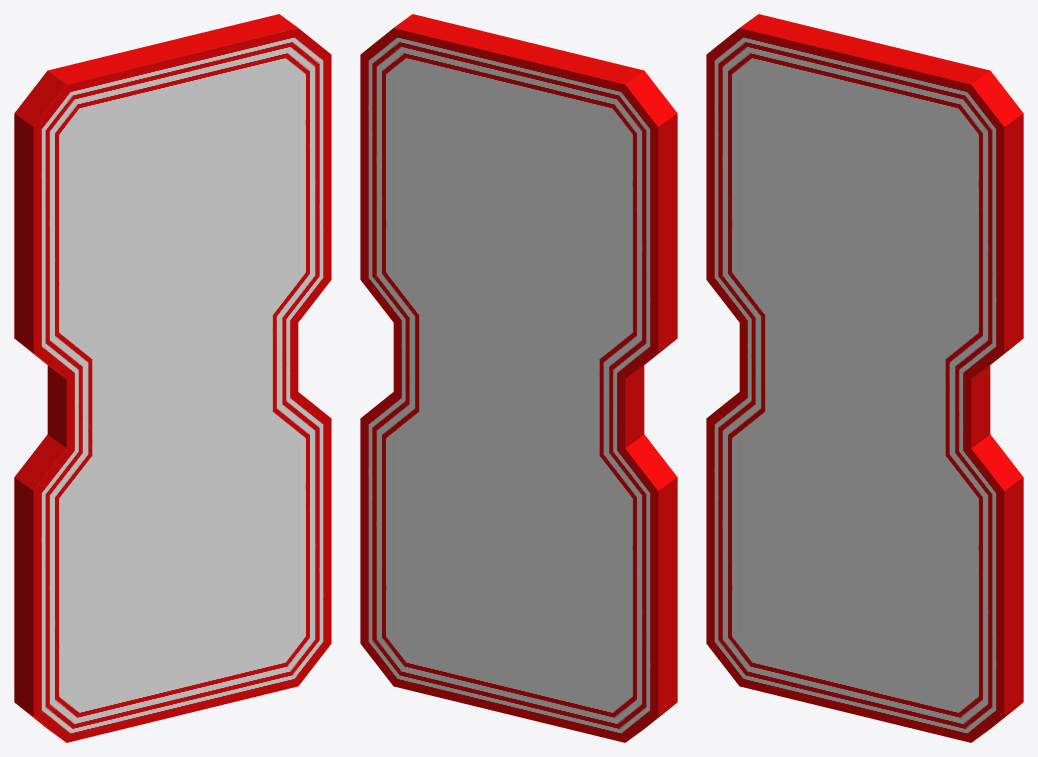
Rendered from Window_Breakable.fbx.
The picture shows the model from 3 angles, left to right: view 1: azimuth 30°, elevation 25°; view 2: azimuth 150°, elevation 25°; view 3: azimuth 330°, elevation 25°; orthographic projection.
Parts seen in each view (by area): view 1: Window_Breakable; view 2: Window_Breakable; view 3: Window_Breakable.
Part boxes in pixels (x1,y1,x2,y2): Window_Breakable: (14, 14, 331, 742); Window_Breakable: (360, 14, 677, 742); Window_Breakable: (706, 14, 1023, 742).
Size of the model in its own units: 180 by 380 by 20.
